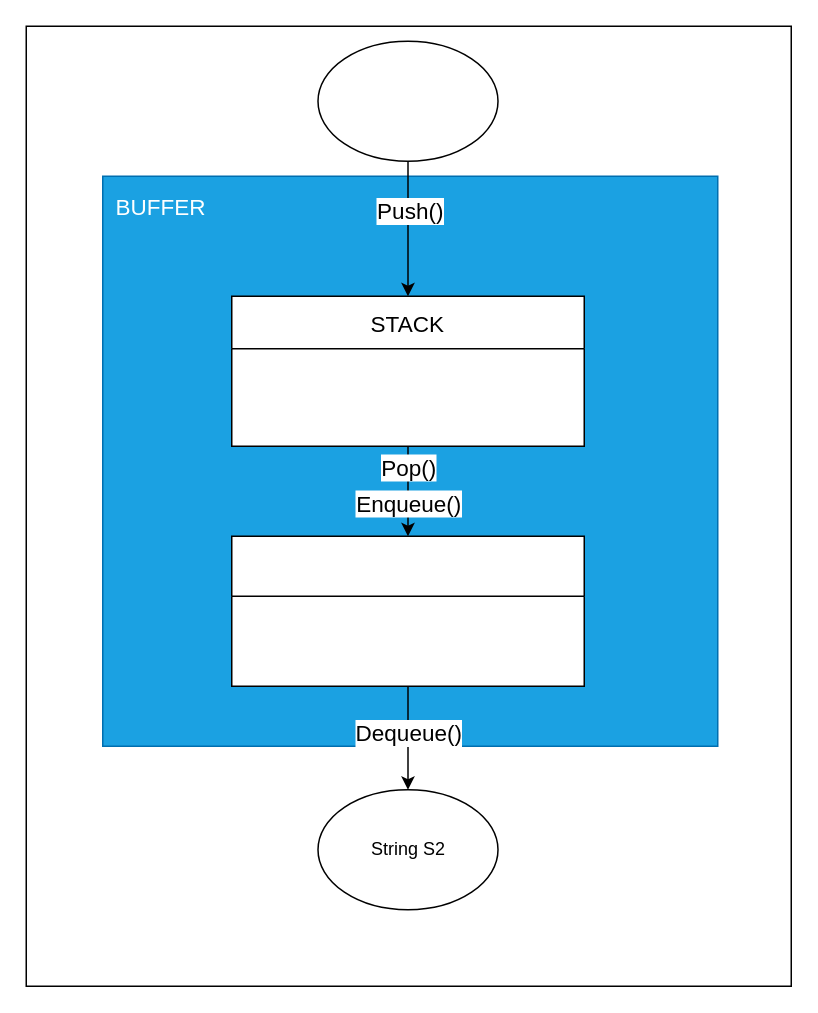
Some shapes in this 818 by 1013 pixel diagram are drawn without their labels. Each missing label, with the centre of its shape:
"QUEUE" goes at point (407, 610).
"String Input" goes at point (407, 100).
